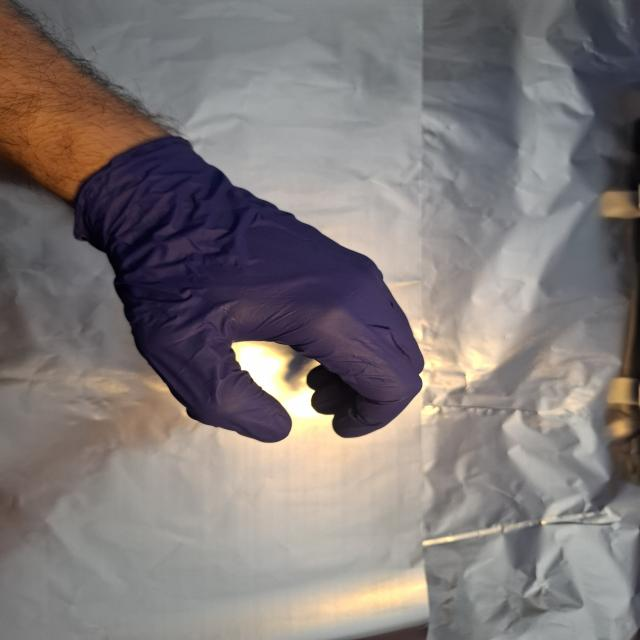glove_on: (82, 135, 428, 446)
